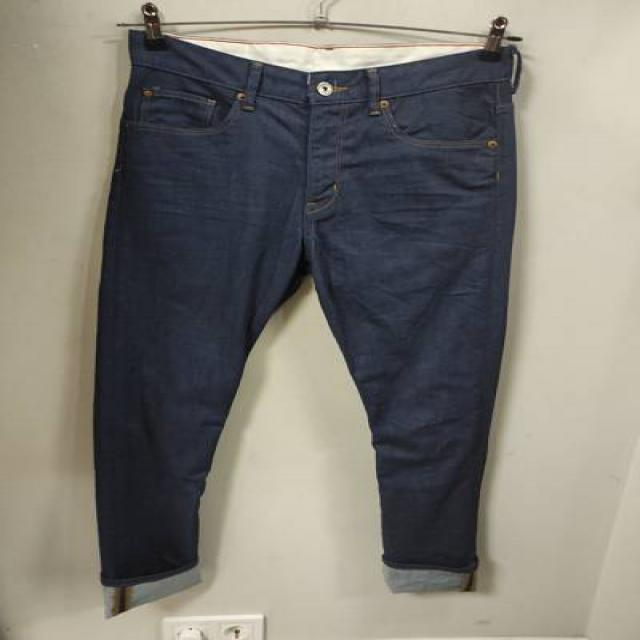Clothes -Biodegradable-: (90, 32, 518, 618)
